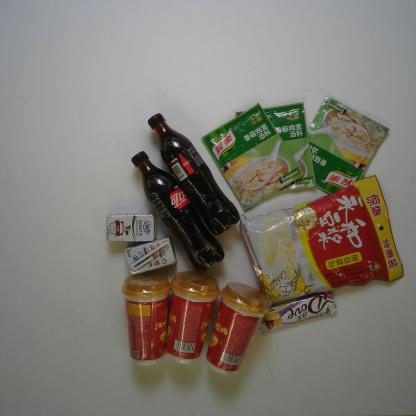Chocolate: (257, 290, 340, 337)
Drink: (146, 110, 242, 236), (130, 149, 226, 274)
Instant Drink: (236, 173, 406, 308), (203, 278, 273, 379), (163, 269, 225, 371), (118, 267, 173, 370)
Milk: (122, 234, 179, 276), (104, 210, 158, 244)
Seasoner: (199, 100, 305, 212), (306, 94, 392, 195), (234, 101, 318, 192)
